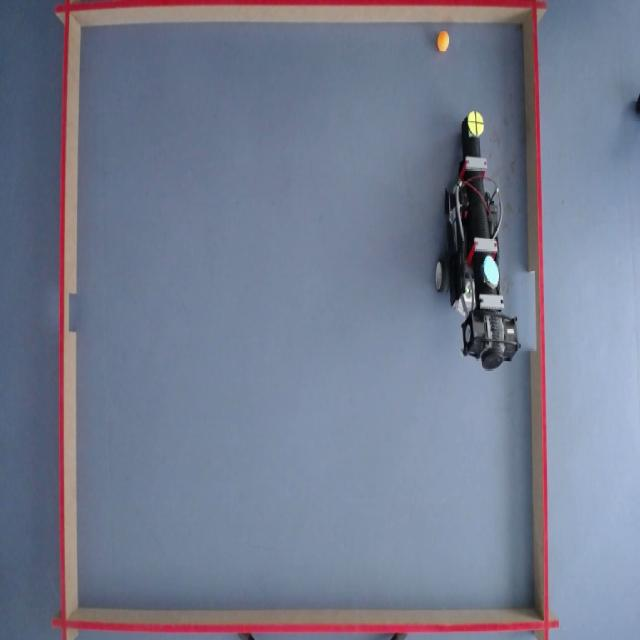orange: (437, 32, 451, 54)
robot: (434, 105, 522, 379)
robot-front: (468, 109, 485, 139)
robot-rear: (482, 255, 501, 287)
